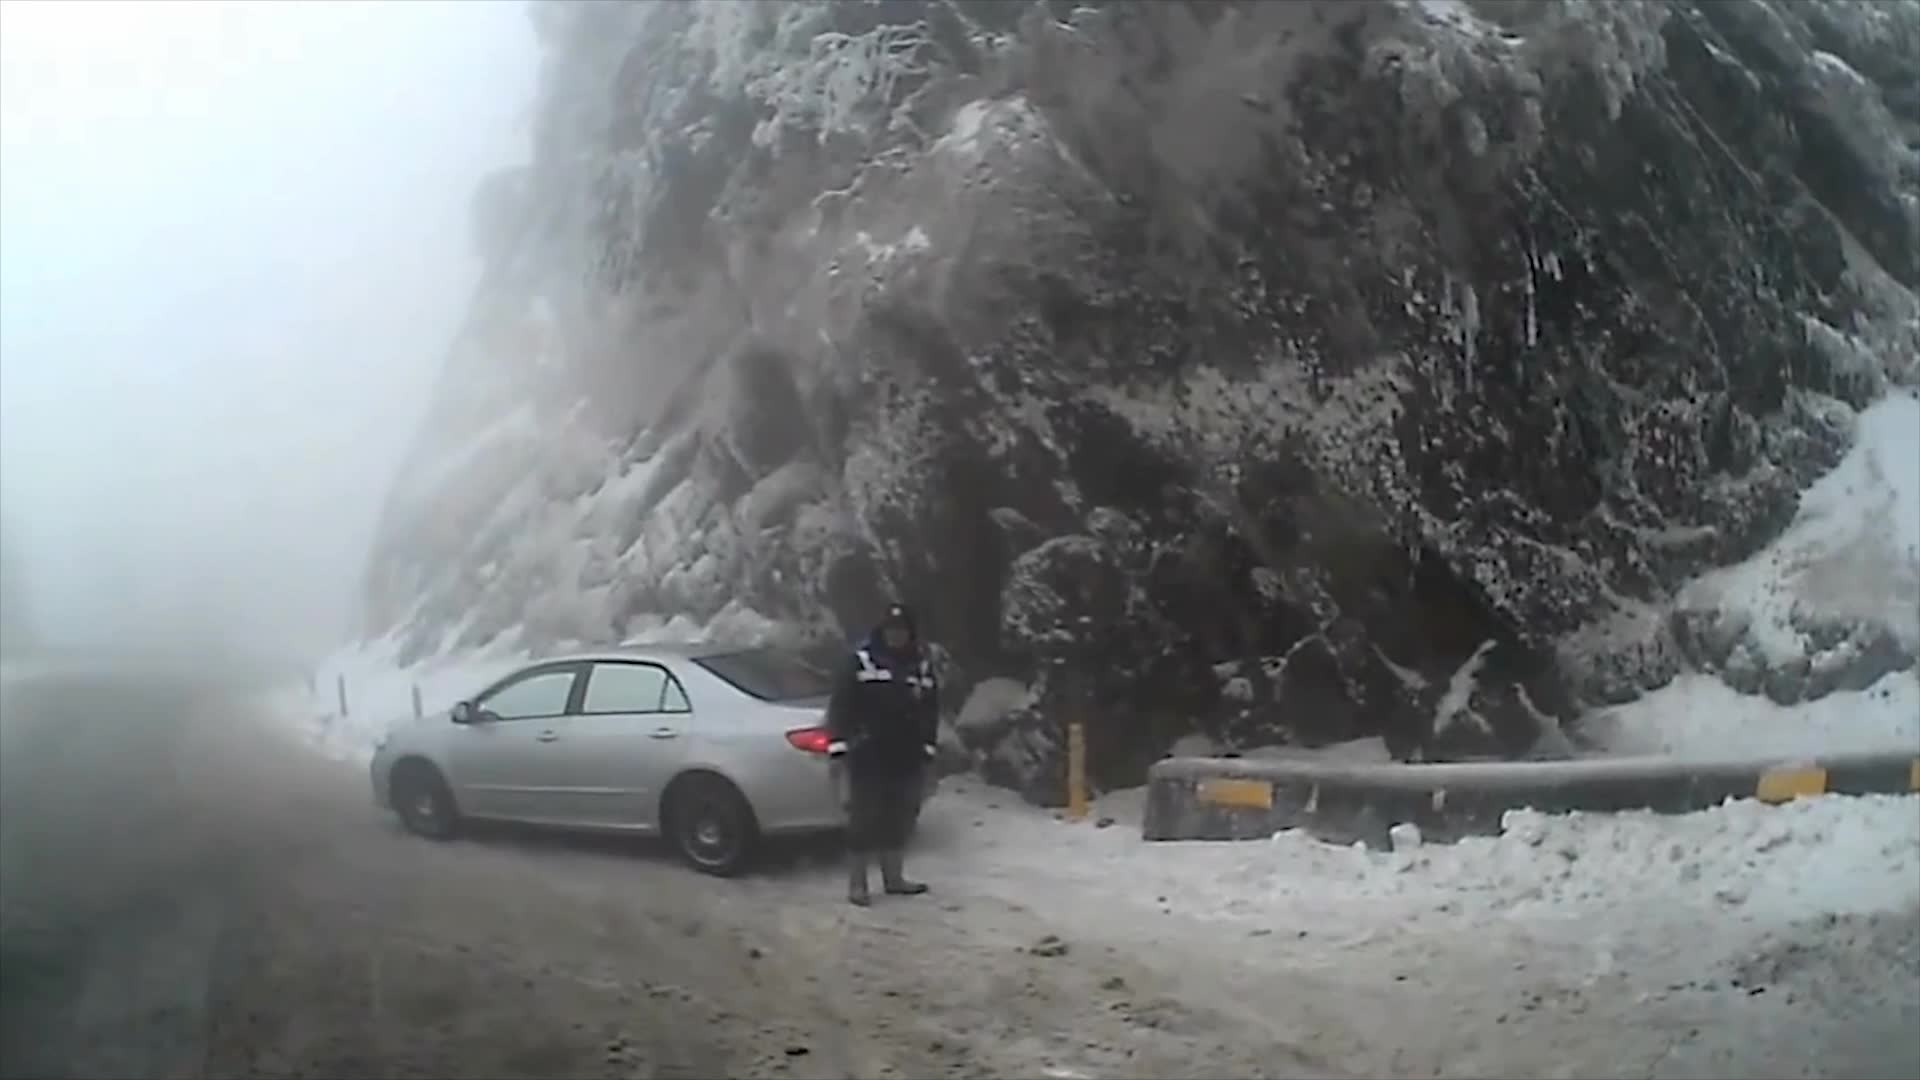pedestrian: (825, 599, 937, 908)
vehicle: (369, 640, 939, 874)
